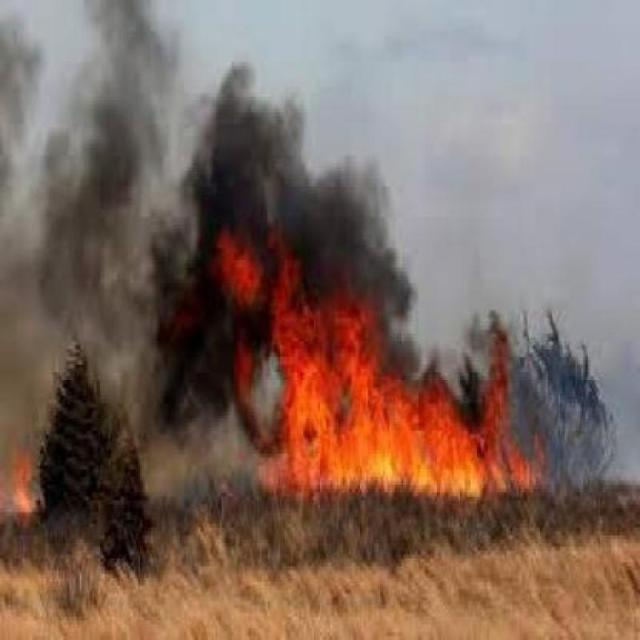Fire: (242, 278, 533, 516), (5, 452, 52, 532)
Smoke: (0, 195, 217, 430)
